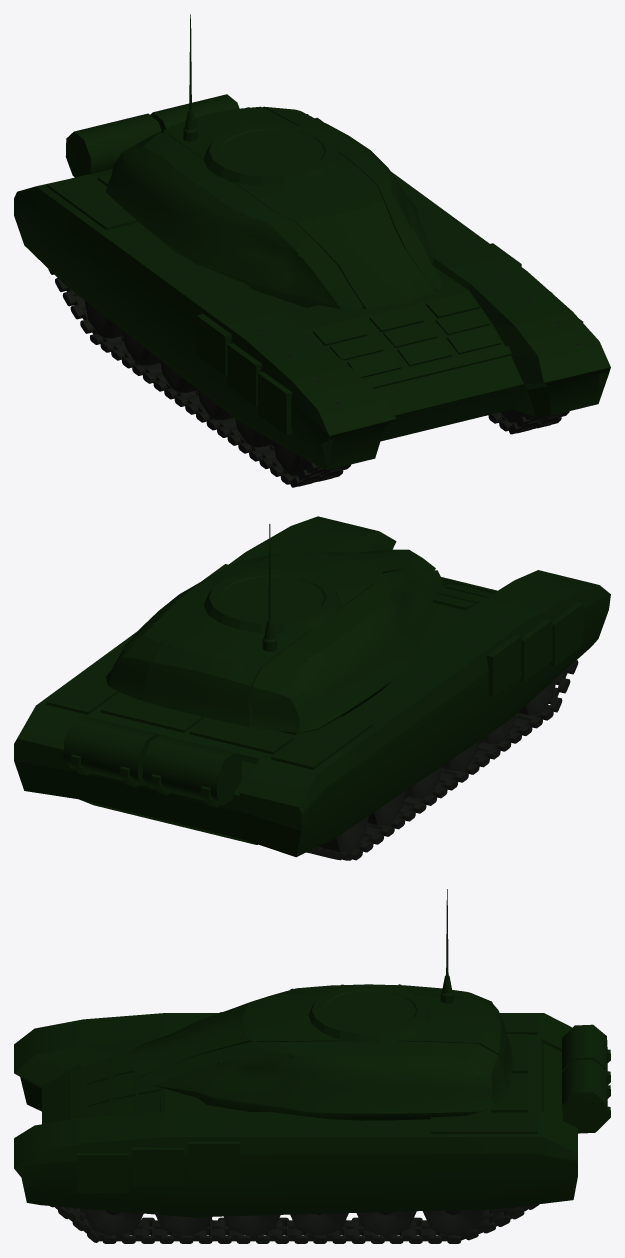
Rendered from Tanque_1.fbx.
3 views of the same model, one above another, from view 1: azimuth 30°, elevation 25°; view 2: azimuth 150°, elevation 25°; view 3: azimuth 270°, elevation 25° (orthographic). The views are drawn at different scales.
Visible parts, largest first — view 1: tank, Tanque_Top, wheel_2_2, wheel_7_2; view 2: tank, Tanque_Top, wheel_7_2, wheel_6_2, Antena, wheel_2_2, wheel_5_2, wheel_4_2; view 3: tank, Tanque_Top, wheel_7_1, wheel_2_1, wheel_6_1, wheel_5_1, wheel_4_1, wheel_3_1, Antena.
Boxes of the visible parts, x1,y1,x2,y2 form: tank: (14,94,610,469); Tanque_Top: (106,106,443,309); wheel_2_2: (273,441,311,475); wheel_7_2: (84,301,122,338); tank: (14,516,610,857); Tanque_Top: (106,549,442,732); wheel_7_2: (318,816,368,852); wheel_6_2: (367,791,405,825); Antena: (262,524,277,651); wheel_2_2: (518,678,556,715); wheel_5_2: (405,766,442,798); wheel_4_2: (442,741,479,770); tank: (14,1013,610,1217); Tanque_Top: (124,984,512,1120); wheel_7_1: (422,1209,484,1235); wheel_2_1: (82,1208,143,1235); wheel_6_1: (356,1211,416,1235); wheel_5_1: (290,1213,348,1235); wheel_4_1: (223,1215,280,1235); wheel_3_1: (155,1214,212,1235); Antena: (440,889,453,1003).
Bounding box in the file's own units: 370 × 369 × 715.
